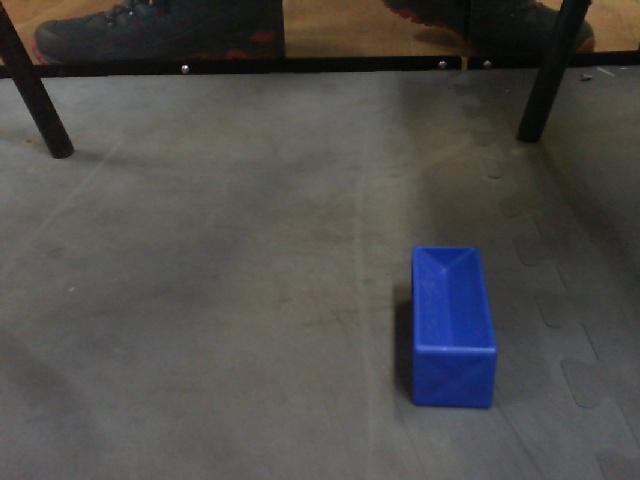BlueSample: (401, 243, 502, 415)
